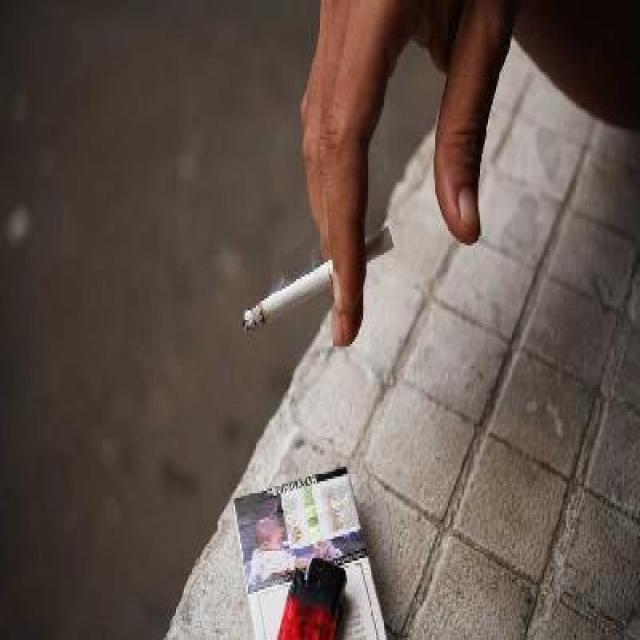rokok: (235, 223, 401, 341)
